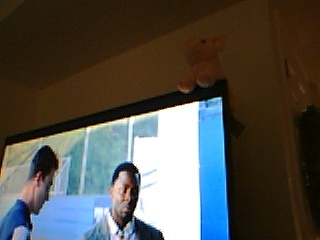piggy: (176, 33, 227, 94)
